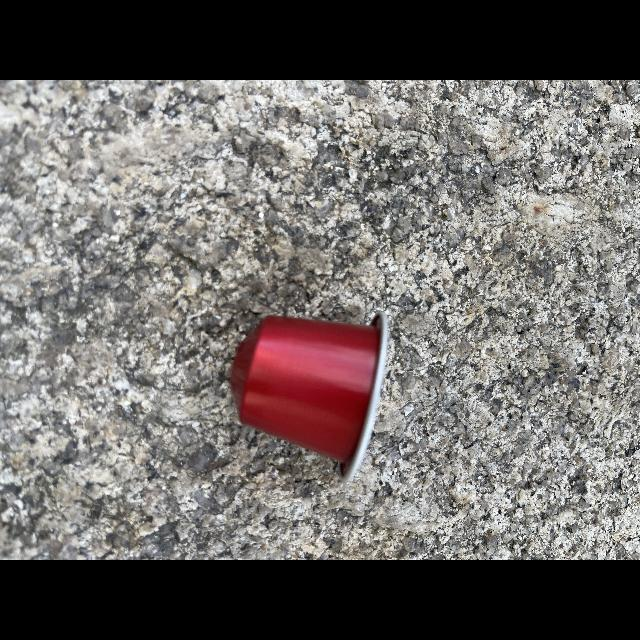intact_capsule: (223, 300, 401, 490)
